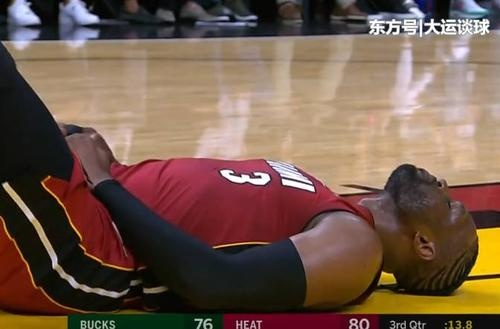falling: (2, 27, 486, 300)
